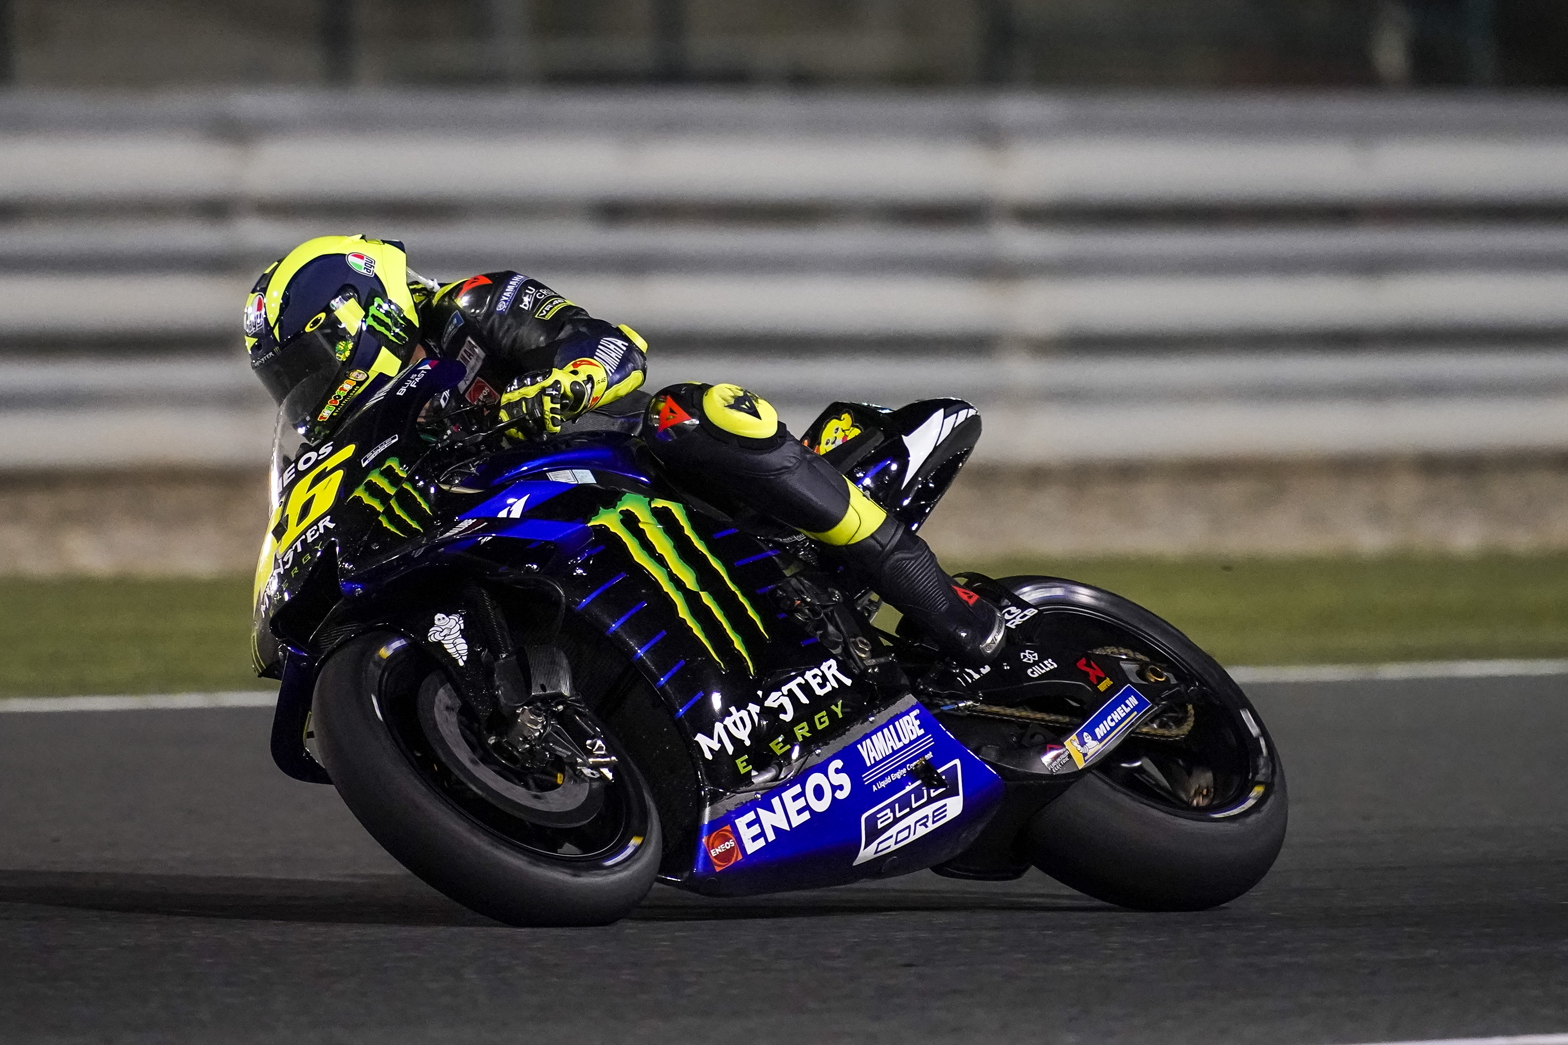helmet: (234, 251, 419, 397)
